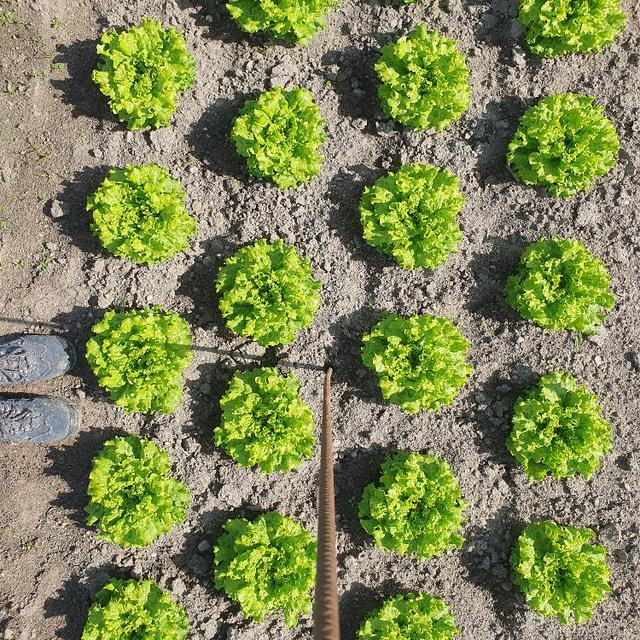Lettuce: (210, 496, 320, 622), (87, 15, 200, 137), (355, 304, 477, 414), (352, 445, 468, 560), (213, 358, 320, 480), (82, 303, 198, 415), (502, 92, 622, 200), (356, 158, 466, 272), (367, 20, 473, 135), (82, 433, 188, 547), (88, 160, 200, 267), (505, 510, 612, 622), (504, 230, 618, 335), (212, 243, 322, 350), (505, 372, 607, 485), (226, 84, 326, 194), (503, 0, 637, 60), (79, 573, 191, 640), (215, 0, 337, 50), (353, 586, 463, 640)
